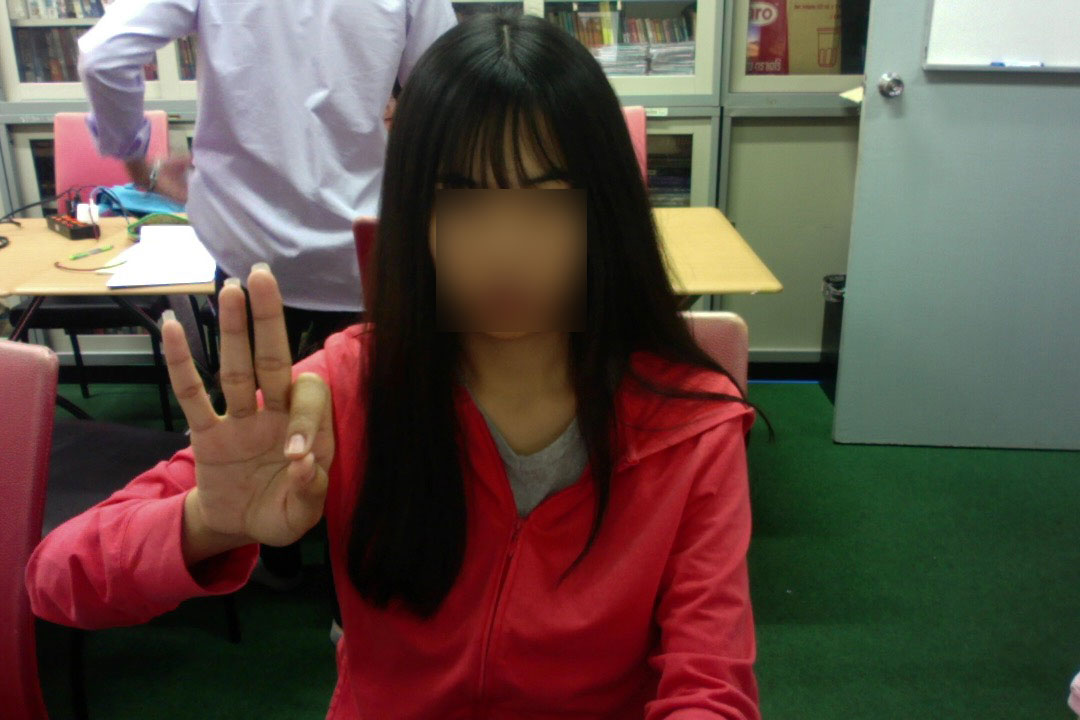for: (153, 251, 344, 566)
